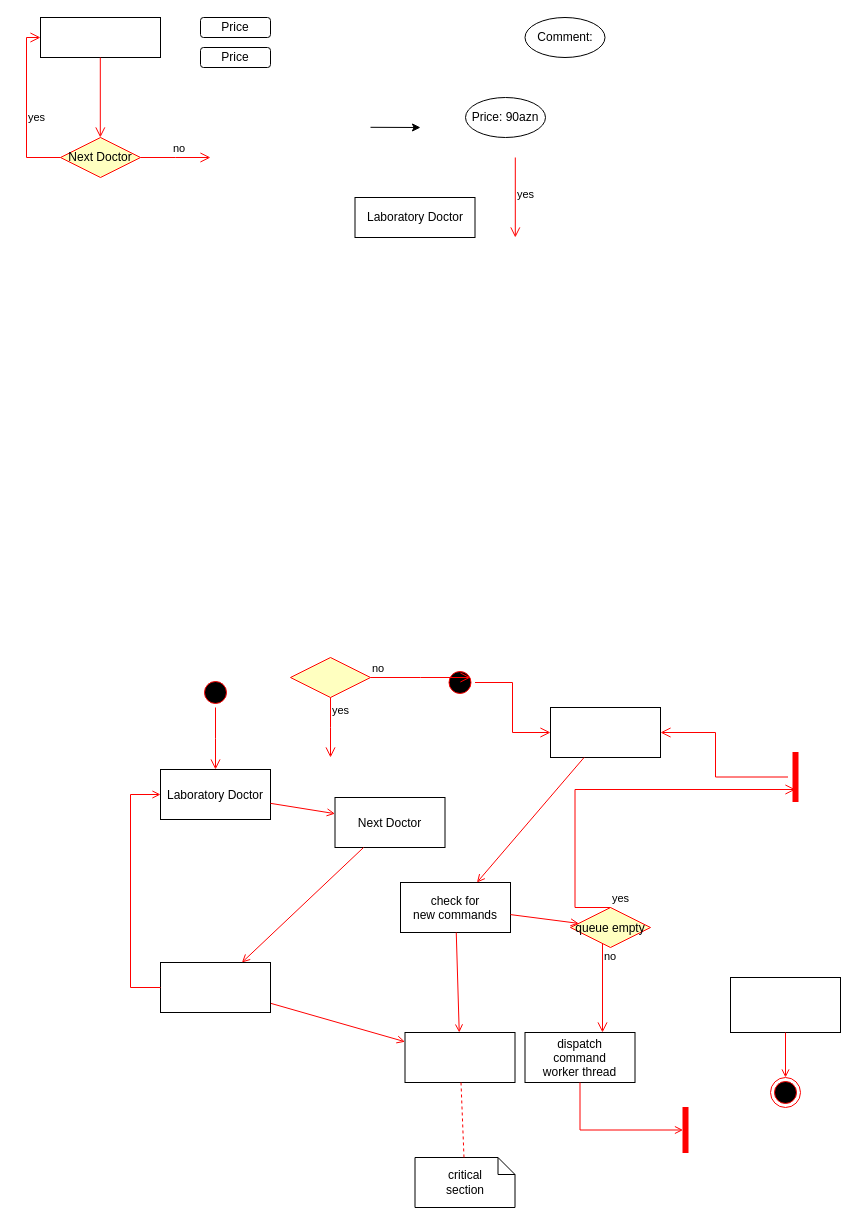
Some shapes in this 858 by 1225 pixel diagram are drawn without their labels. The shapes that lost their labels are listed below. From the top down, each one's centre as x and y in pixels, then its label:
At [100,37]: "Doctor(i)".
At [330,677]: "Condition".
At [605,732]: "idle".
At [215,987]: "post command".
At [785,1004]: "process command".
At [459,1057]: "command queue".
